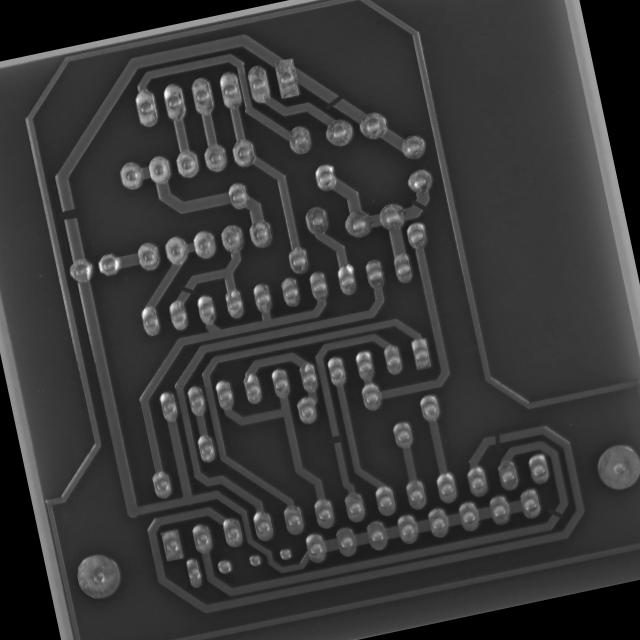open_circuit: (318, 86, 348, 112), (404, 192, 430, 218), (544, 502, 566, 525), (324, 427, 345, 451), (488, 426, 508, 449), (177, 278, 197, 300)
